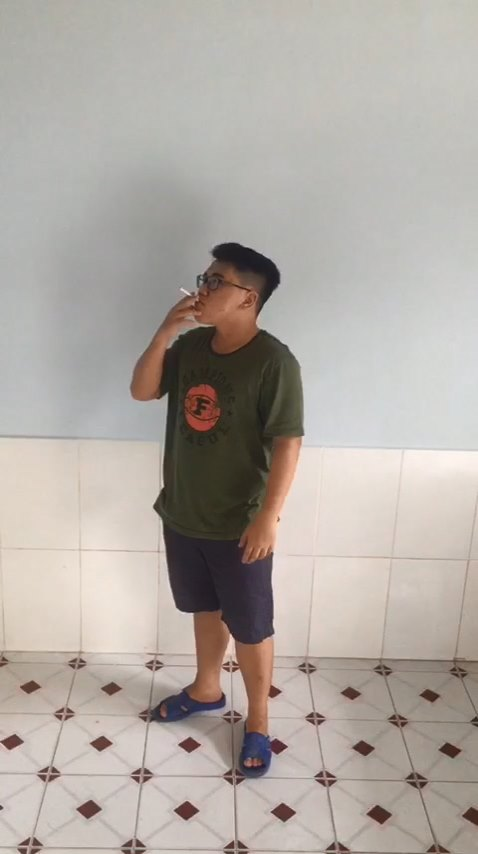cigarette: (177, 282, 201, 308)
person: (109, 217, 326, 799)
